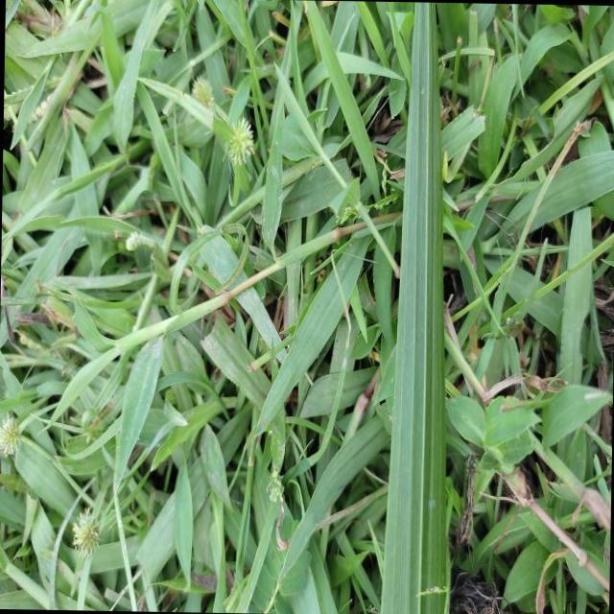Boron: (371, 0, 462, 613)
